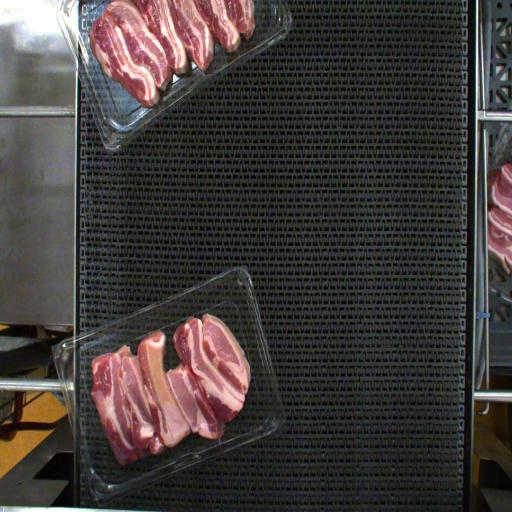twisted-meat: (142, 333, 190, 445)
